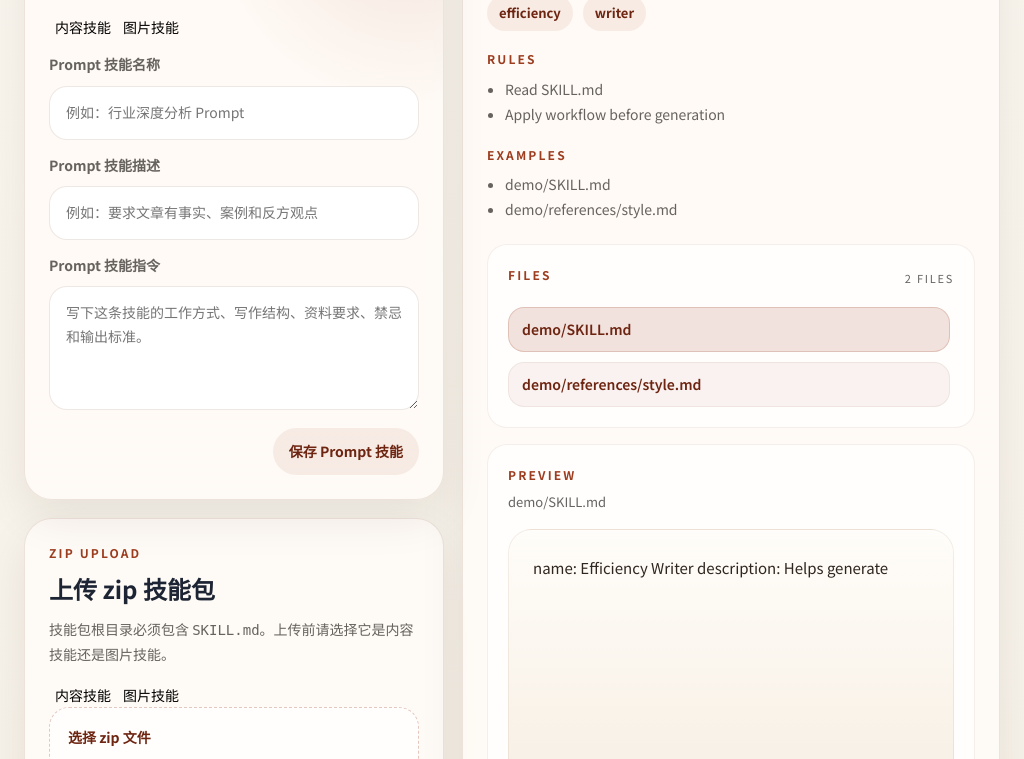
SettingsShell › loads skill files and previews file contents
(page scrolled)
Expected: the button "demo/SKILL.md" is shown, 508,307 -> 950,352
Expected: the text "name: Efficiency Writer description: Helps generate" is shown, 533,554 -> 914,581
Click the button "demo/references/style.md". click: coordinates (612, 384)
box: 508,362 -> 950,407
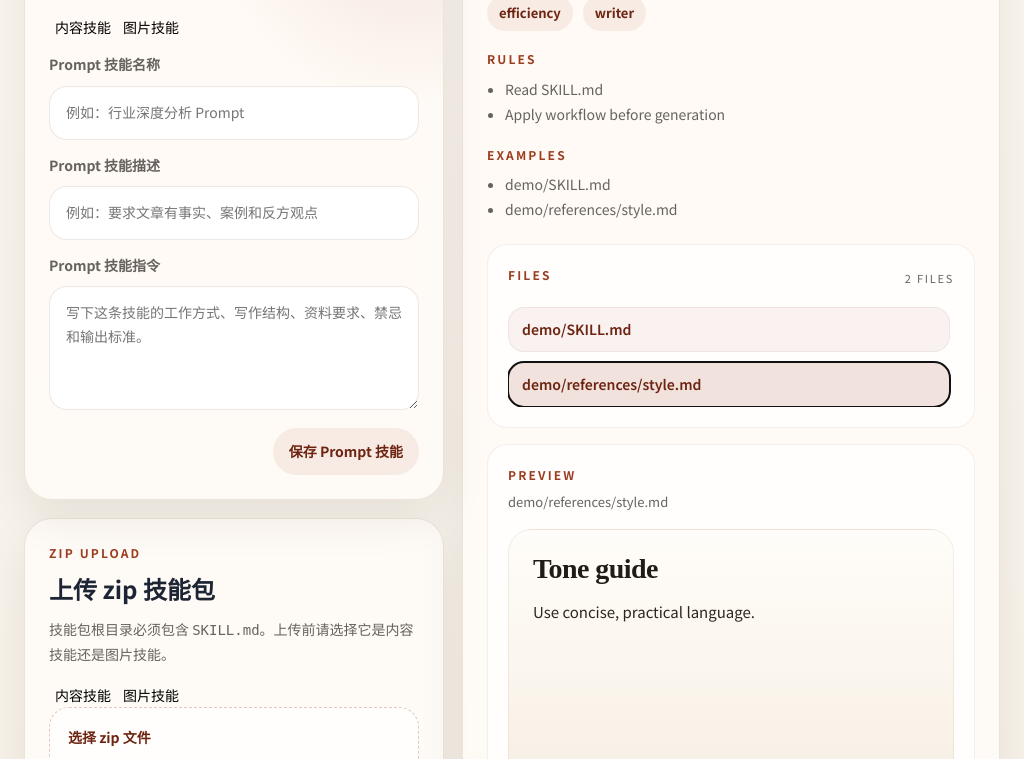
Now the heading "Tone guide" is shown, box 533,553 -> 658,584
Now the text "Use concise, practical language." is shown, box 533,602 -> 755,622
